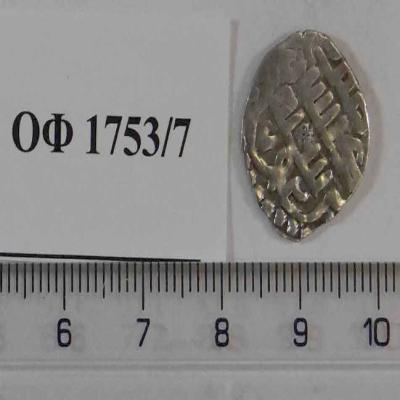numismatics: (241, 30, 370, 241)
